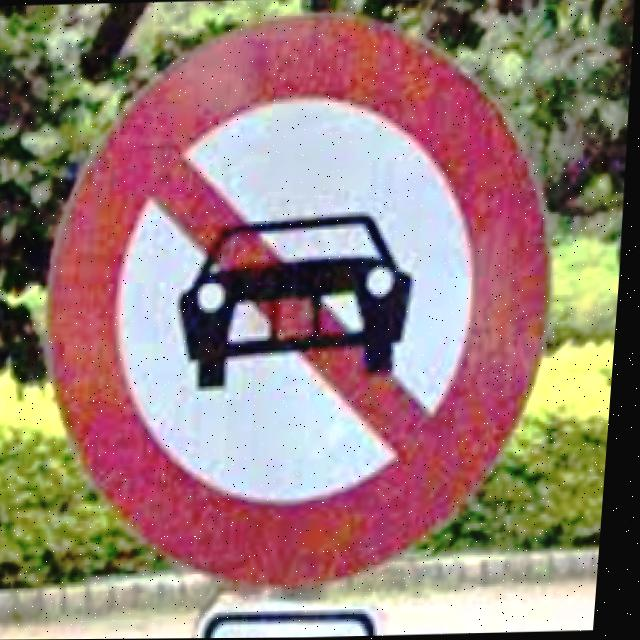nocar: (54, 13, 550, 597)
